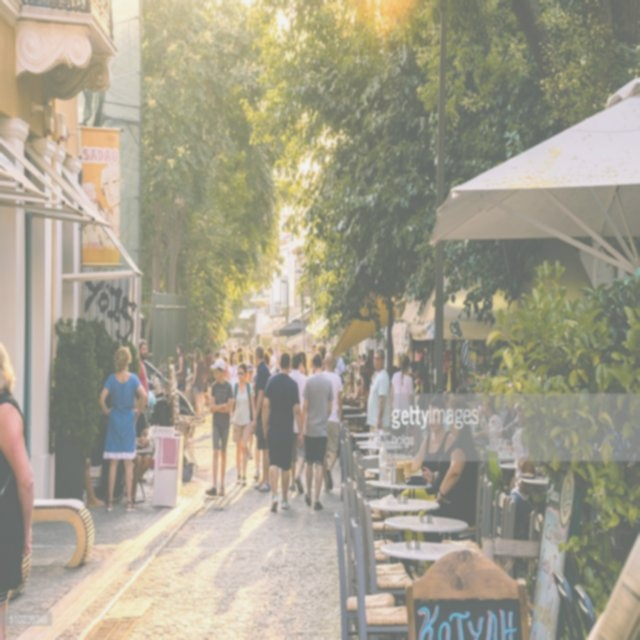pessoa: (0, 338, 34, 639), (392, 388, 456, 546), (420, 394, 482, 544), (99, 345, 148, 513), (262, 351, 303, 512), (298, 352, 334, 510), (448, 393, 493, 486), (205, 357, 234, 497), (82, 161, 120, 252), (366, 347, 391, 482), (230, 362, 256, 484), (321, 351, 343, 494), (251, 343, 271, 493), (288, 352, 308, 495), (510, 426, 534, 540), (471, 393, 528, 441), (252, 350, 272, 481), (388, 355, 416, 438), (130, 412, 152, 504), (188, 346, 208, 423), (474, 394, 504, 440), (80, 454, 104, 511), (220, 340, 278, 363), (145, 374, 171, 421), (173, 342, 188, 414), (246, 364, 256, 461), (227, 351, 240, 425), (499, 388, 520, 432), (361, 348, 376, 398), (138, 338, 148, 411), (442, 393, 456, 437), (352, 372, 372, 402), (202, 346, 214, 393), (333, 345, 346, 385), (343, 372, 358, 402), (408, 359, 420, 394), (352, 354, 363, 388), (266, 347, 278, 375), (358, 352, 368, 378), (298, 351, 308, 377), (272, 344, 280, 374), (310, 344, 318, 374), (315, 343, 327, 361), (218, 344, 228, 359), (212, 351, 222, 365), (386, 362, 400, 372), (223, 356, 228, 380), (252, 362, 258, 382), (290, 352, 294, 374), (281, 346, 291, 354), (237, 354, 243, 364)
